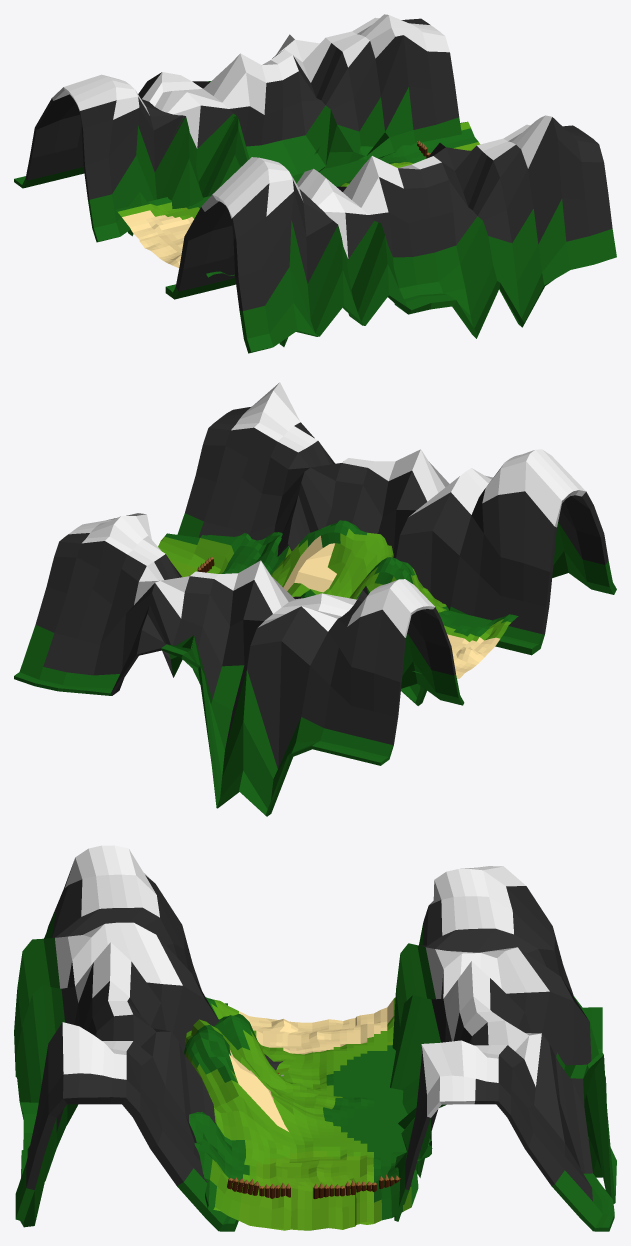
Rendered from Level1.fbx.
3 views of the same model, one above another, from view 1: azimuth 30°, elevation 25°; view 2: azimuth 150°, elevation 25°; view 3: azimuth 270°, elevation 25° (orthographic). The views are drawn at different scales.
Visible parts, largest first — view 1: Plane.002, Plane.003, Plane, Plane.001; view 2: Plane.003, Plane.002, Plane.001, Plane; view 3: Plane.003, Plane.002, Plane.001, Plane.
Part boxes in pixels (box(x1,y1,x2,y2)): Plane.002: box(165, 115, 616, 353); Plane.003: box(14, 14, 461, 242); Plane: box(115, 196, 234, 277); Plane.001: box(292, 121, 480, 186); Plane.003: box(14, 513, 464, 816); Plane.002: box(177, 382, 616, 705); Plane.001: box(158, 520, 393, 597); Plane: box(349, 557, 518, 678); Plane.003: box(390, 866, 616, 1231); Plane.002: box(14, 845, 238, 1231); Plane.001: box(184, 1019, 432, 1230); Plane: box(206, 997, 403, 1099).
Bounding box in the file's own units: 20738 × 12430 × 23259.
